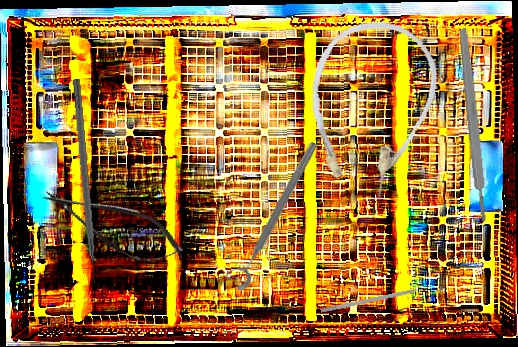Cannula: (292, 10, 447, 207)
Chopper: (320, 285, 433, 319)
Fixation Ring: (221, 135, 322, 293)
Hook Surgical: (70, 78, 98, 286)
Micro Scissor: (34, 172, 193, 279)
Scalpel Handle: (456, 27, 490, 223)
